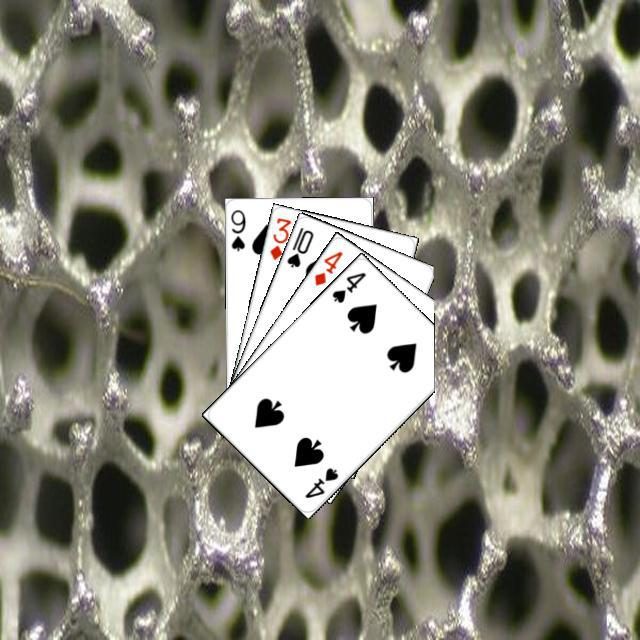10s: (282, 222, 315, 269)
3d: (265, 213, 293, 262)
4d: (309, 246, 344, 287)
4s: (327, 267, 368, 305), (299, 462, 340, 500)
9s: (226, 205, 247, 252)
